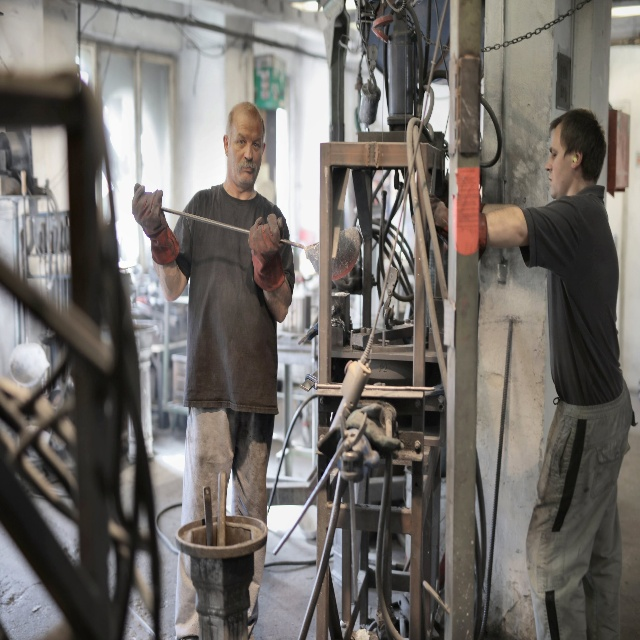Guantes: (411, 192, 488, 256), (131, 180, 179, 265), (247, 213, 285, 292)
